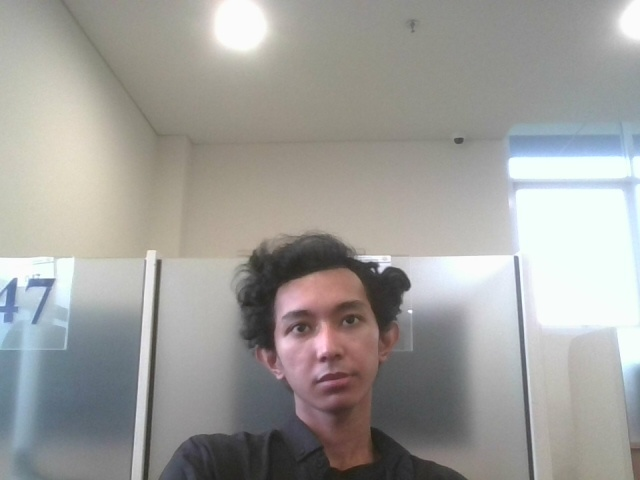Awake: (215, 237, 420, 463)
